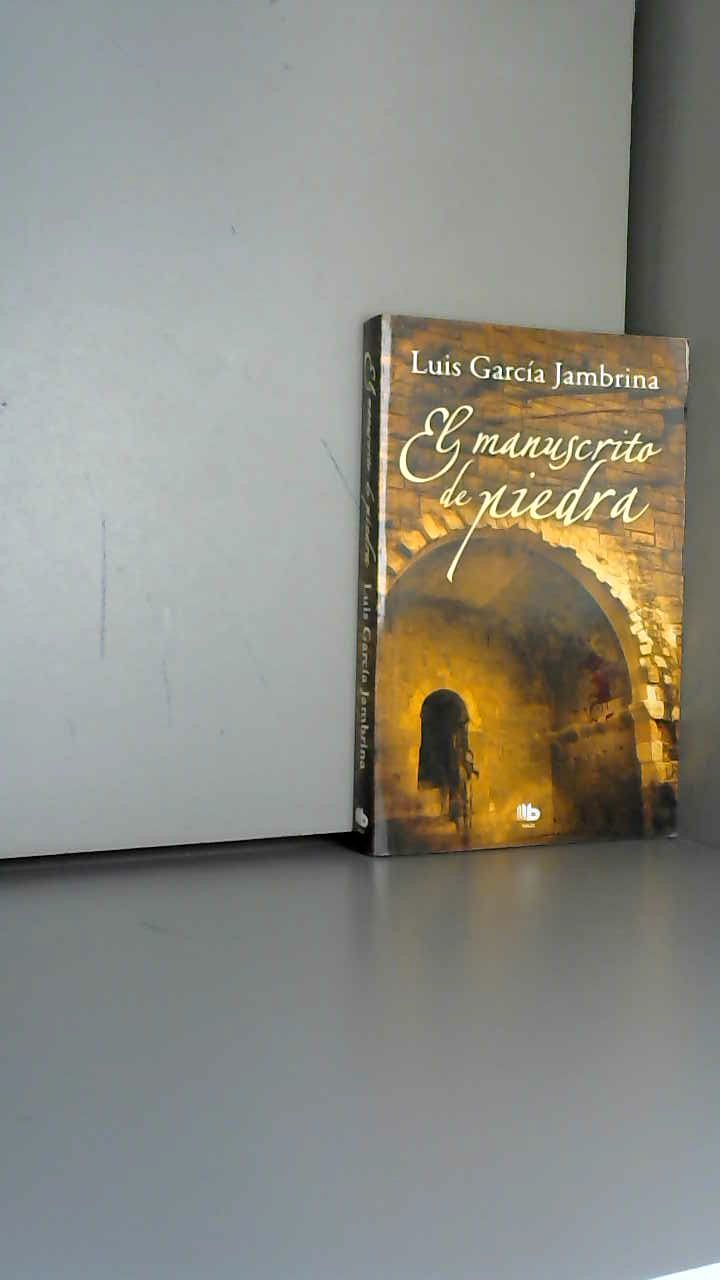book: (320, 290, 715, 881)
